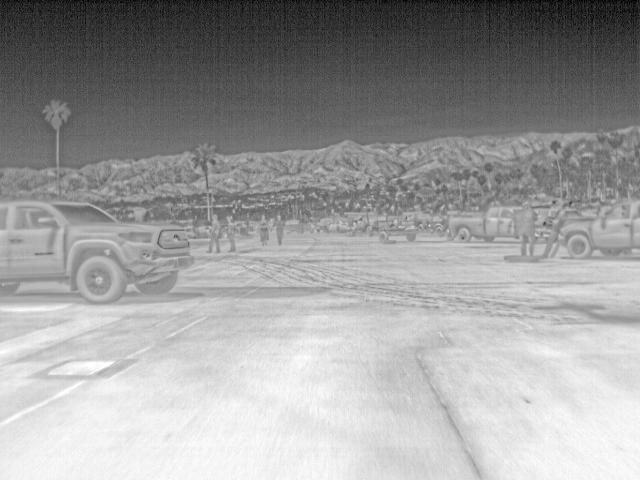car: (2, 198, 195, 306), (557, 200, 639, 262), (446, 205, 522, 242)
person: (515, 204, 539, 260), (540, 206, 562, 259), (206, 213, 223, 254), (224, 213, 240, 253), (255, 214, 271, 244), (274, 213, 286, 248)
